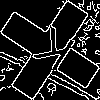K: (25, 25, 78, 81)
